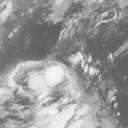cyclone: (30, 61, 73, 102)
